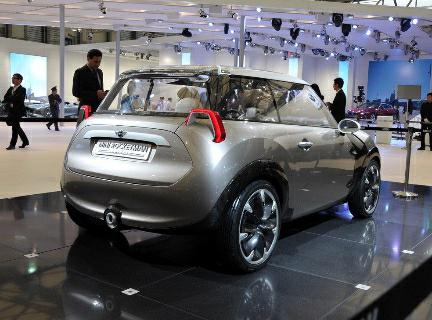MINI-ROCKETMAN: (56, 69, 385, 260)
